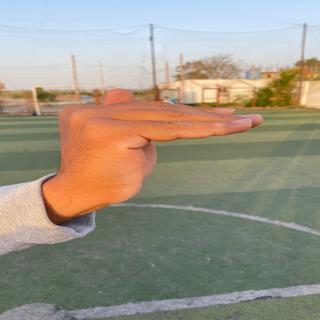KHAA: (44, 83, 270, 227)
